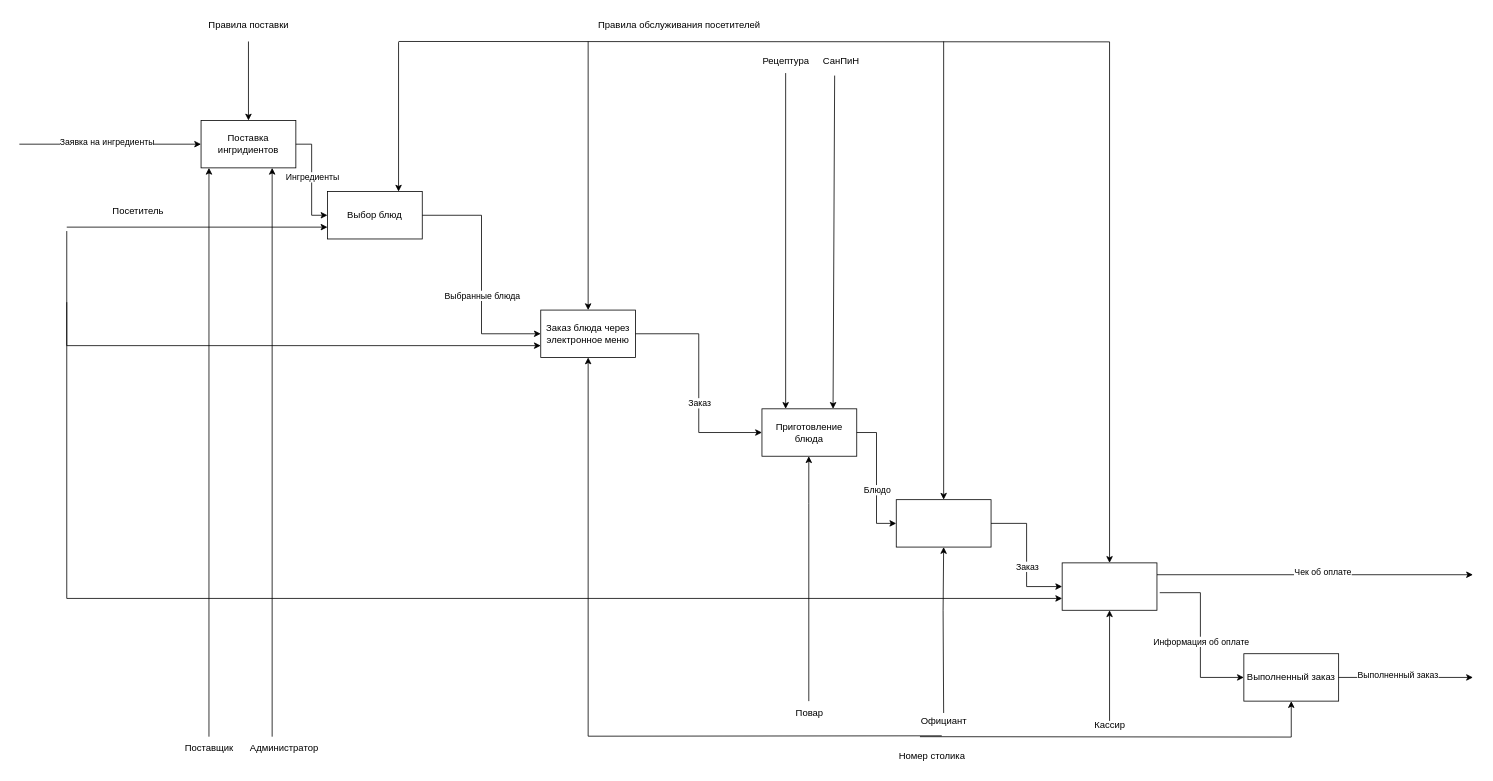
Image size: 1493x781. Some labels were removed from this diagram. Here are the shapes that lost their labels. From the top down, the box of each, then its label:
(895, 499, 991, 547): Отдача блюд посетителю
(1061, 562, 1157, 610): Оплата заказа
